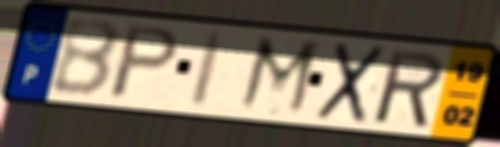B: (48, 18, 123, 100)
I: (186, 29, 230, 111)
M: (234, 33, 325, 121)
P: (104, 22, 184, 101)
R: (373, 47, 447, 131)
X: (311, 40, 390, 127)
